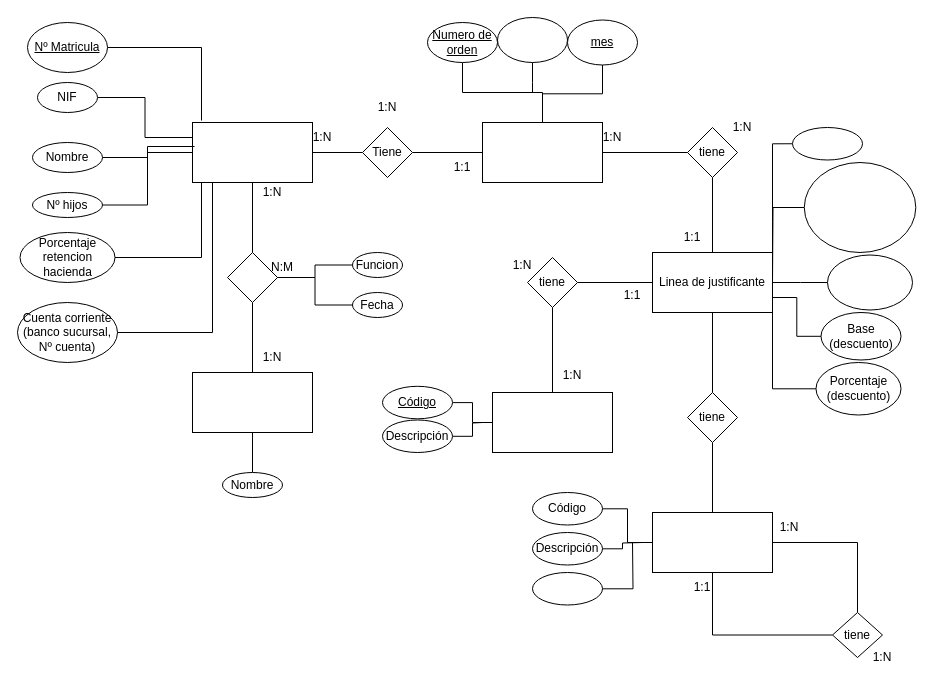
Image size: 934x690. Some labels were removed from this diagram. The shapes that lost their labels are listed below. From the top down, each one's centre as x and y in pixels, then its label:
point (532, 39): Ejercicio fiscal
point (252, 152): Empleado
point (542, 152): Justificante Nómina
point (827, 143): Nº Linea
point (859, 207): Cantidad (Positivo para ingreso, negativo para descuento)
point (252, 277): trabaja
point (869, 282): Tipo(ingreso o descuento)
point (252, 402): Departamento
point (552, 422): Concepto retributivo
point (712, 542): Elementos de coste
point (567, 588): Saldo
